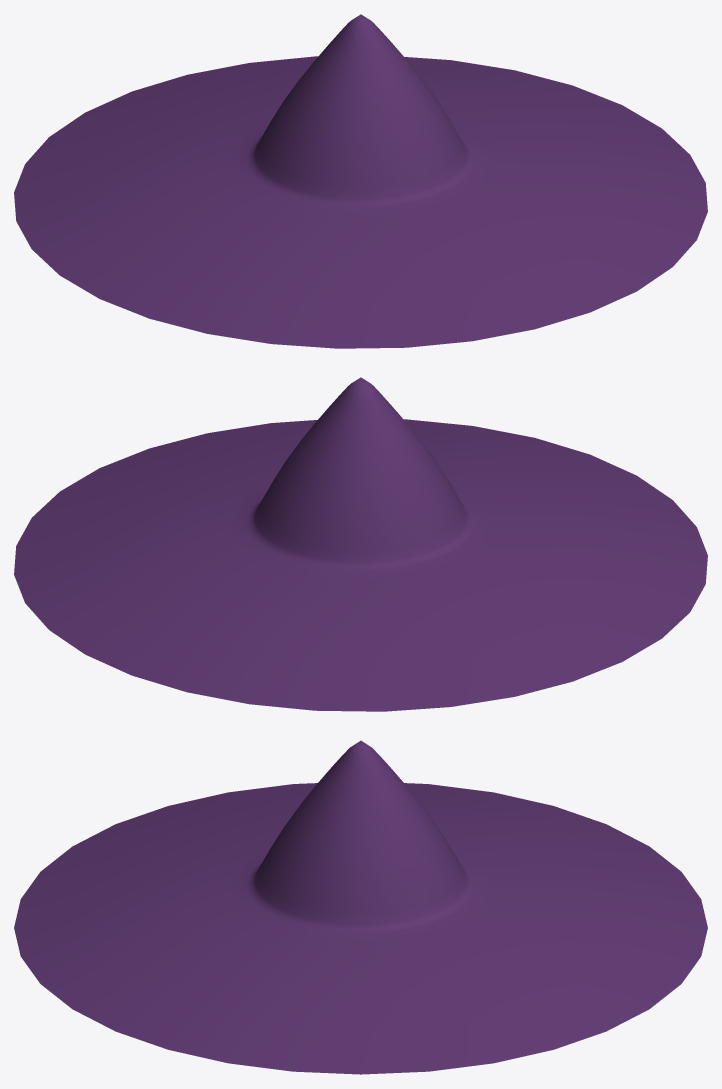
The model's file is wizard_hat.gltf.
3 views of the same model, one above another, from view 1: azimuth 30°, elevation 25°; view 2: azimuth 150°, elevation 25°; view 3: azimuth 270°, elevation 25° (orthographic).
Parts seen in each view (by area): view 1: Cube.001; view 2: Cube.001; view 3: Cube.001.
Part boxes in pixels (x1=…): Cube.001: x1=14, y1=14, x2=707, y2=348; Cube.001: x1=14, y1=377, x2=707, y2=711; Cube.001: x1=14, y1=740, x2=707, y2=1074.
Size of the model in its own units: 0.8163 by 0.2432 by 0.8163.
